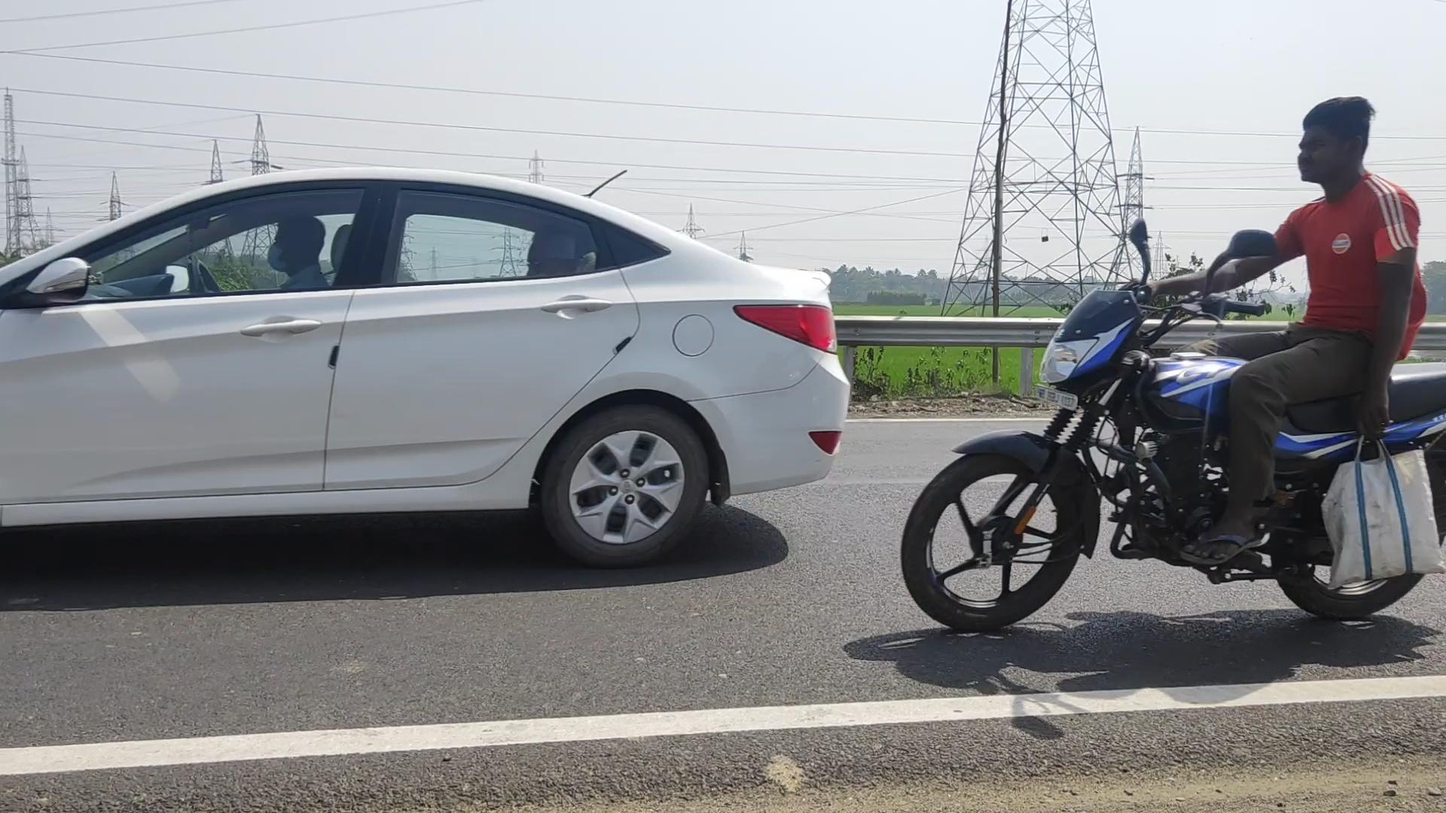bike: (899, 96, 1446, 634)
car: (1, 164, 849, 574)
